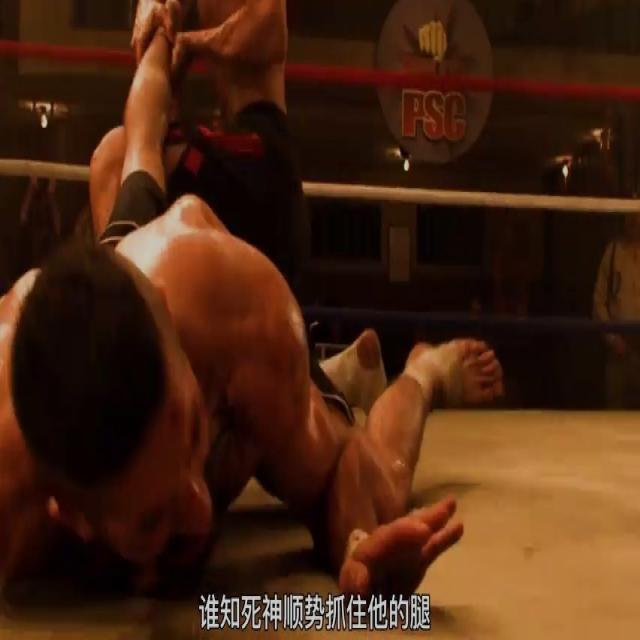fight: (0, 0, 513, 637)
